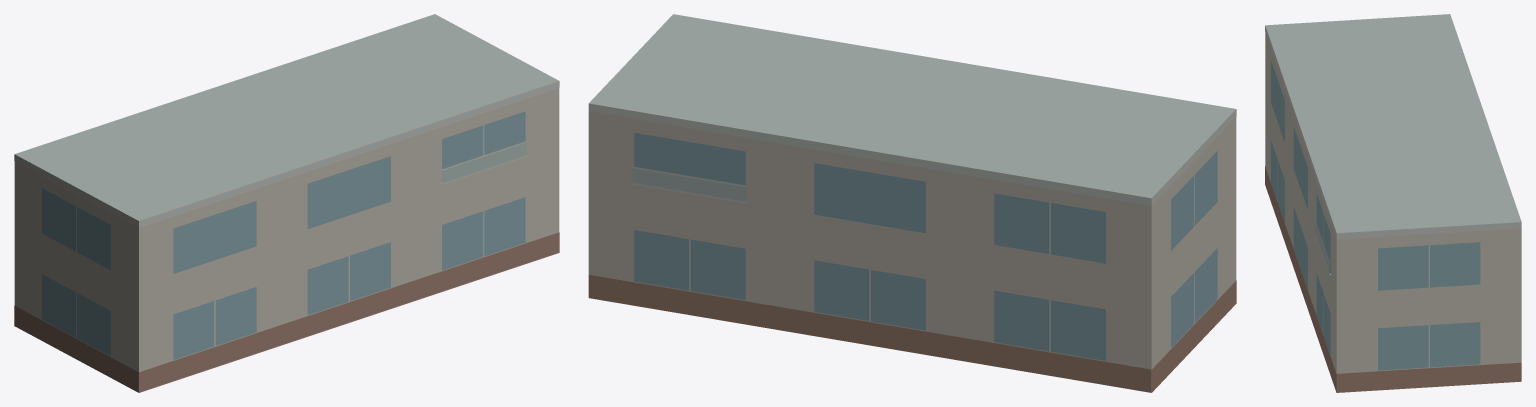
The model's file is survey-upis-32807609.glb.
3 views of the same model, side by side, from view 1: azimuth 30°, elevation 25°; view 2: azimuth 150°, elevation 25°; view 3: azimuth 270°, elevation 25° (orthographic). The views are drawn at different scales.
Visible parts, largest first — view 1: survey-upis-32807609.tmp; view 2: survey-upis-32807609.tmp; view 3: survey-upis-32807609.tmp.
Boxes of the visible parts, <box> form: survey-upis-32807609.tmp: <box>14,14,559,392</box>; survey-upis-32807609.tmp: <box>588,14,1236,392</box>; survey-upis-32807609.tmp: <box>1265,14,1521,392</box>.
Size of the model in its own units: 17.98 by 6.1 by 8.89.
